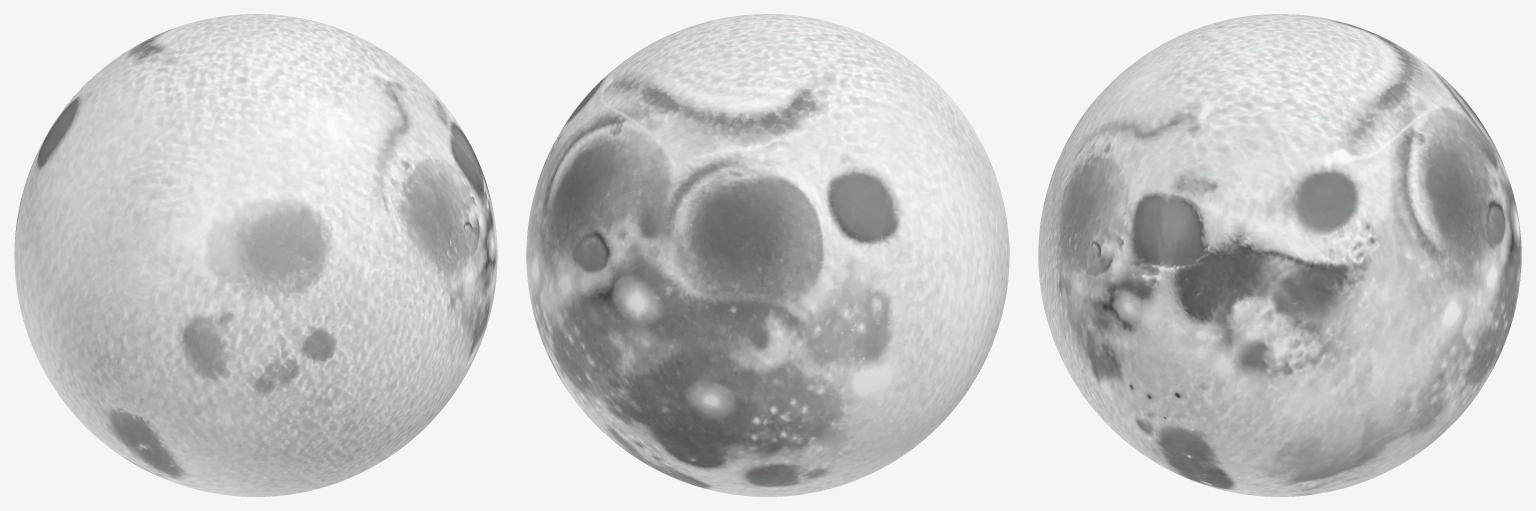
The model's file is moon.glb.
3 renders of one model, left to right at view 1: azimuth 30°, elevation 25°; view 2: azimuth 150°, elevation 25°; view 3: azimuth 270°, elevation 25°, orthographic.
Bounding box in the file's own units: 1.89 × 1.9 × 1.9.
1 material, 1 textured.
